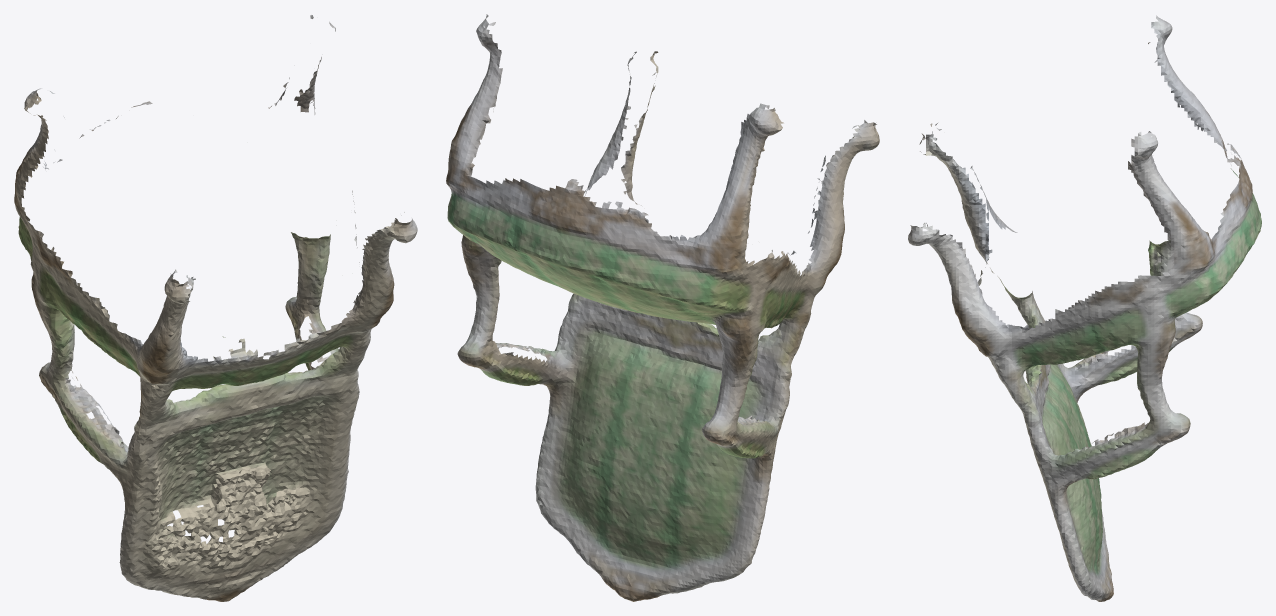
The picture shows the model from 3 angles, left to right: view 1: azimuth 30°, elevation 25°; view 2: azimuth 150°, elevation 25°; view 3: azimuth 270°, elevation 25°; orthographic projection. The views are drawn at different scales.
Parts seen in each view (by area): view 1: geometry_0; view 2: geometry_0; view 3: geometry_0.
Boxes of the visible parts, x1,y1,x2,y2 form: geometry_0: (14, 15, 417, 601); geometry_0: (446, 14, 879, 601); geometry_0: (908, 15, 1261, 601).
Bounding box in the file's own units: 1.41 × 2.41 × 1.48.
